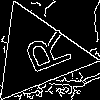R: (12, 28, 74, 79)
